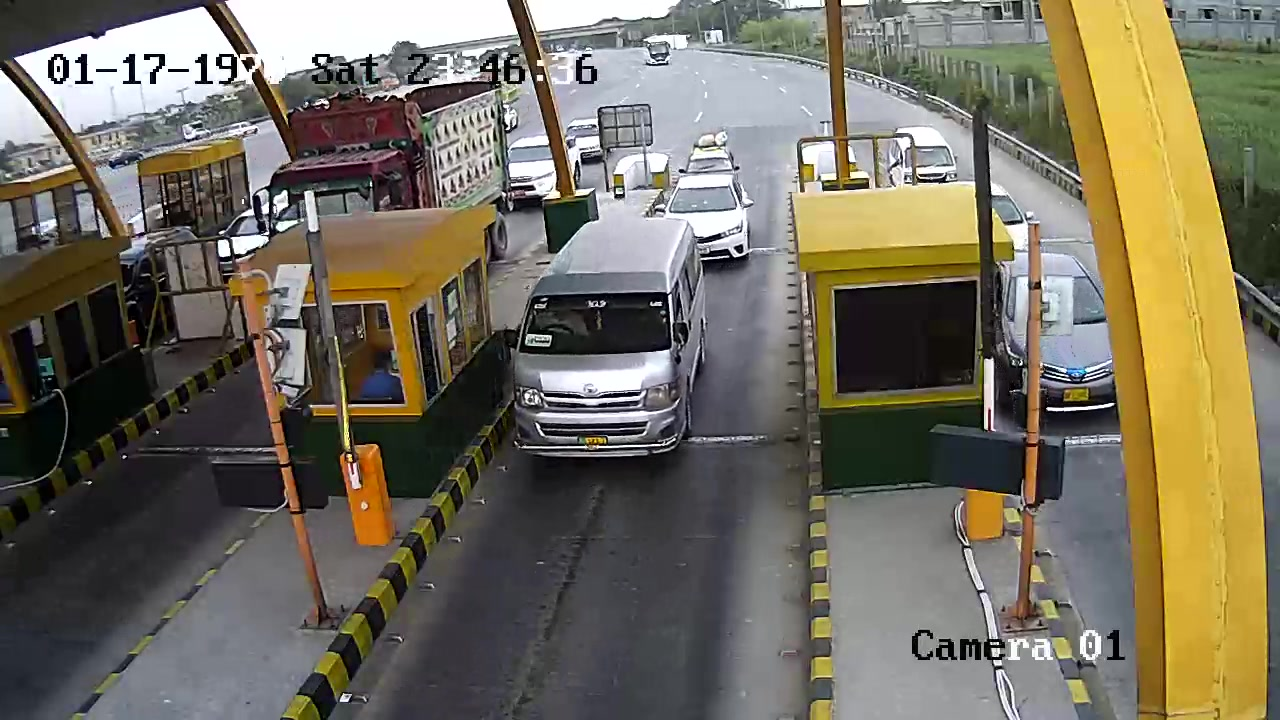F3: (499, 218, 704, 477)
